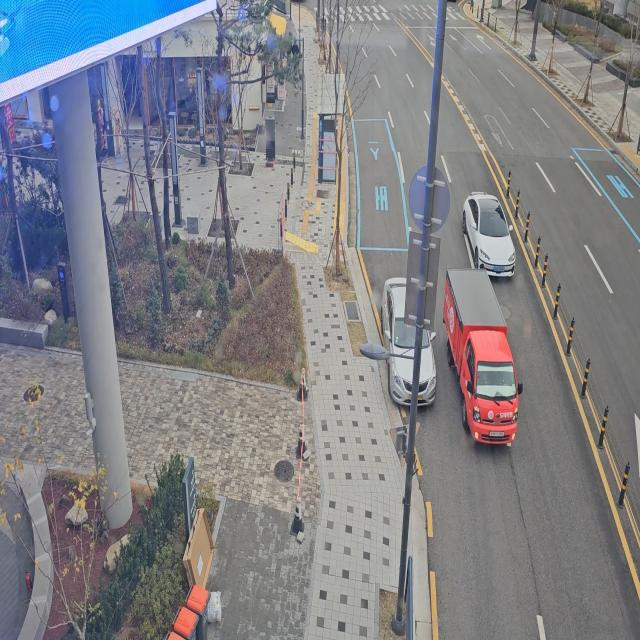Car: (368, 250, 443, 425), (462, 185, 526, 282)
Truck: (437, 264, 528, 461)
